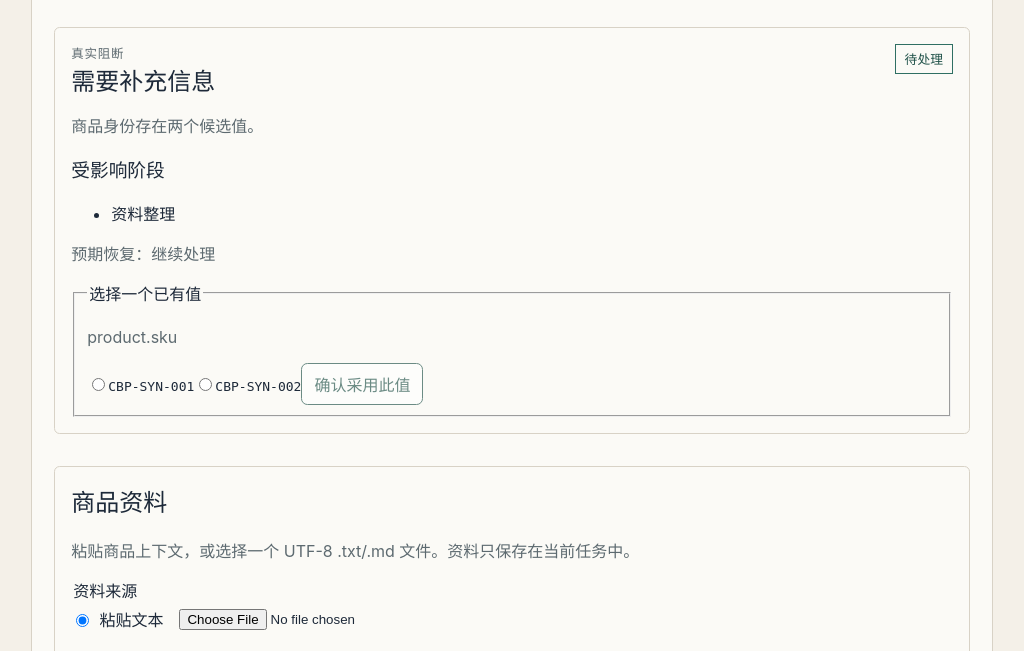
Test case: TaskRoutes › announces successful resolution after the authoritative overview refetch
(page scrolled)
Step 1. Click the radio button labelled "CBP-SYN-001" → [99, 384], box [92,378,105,391]
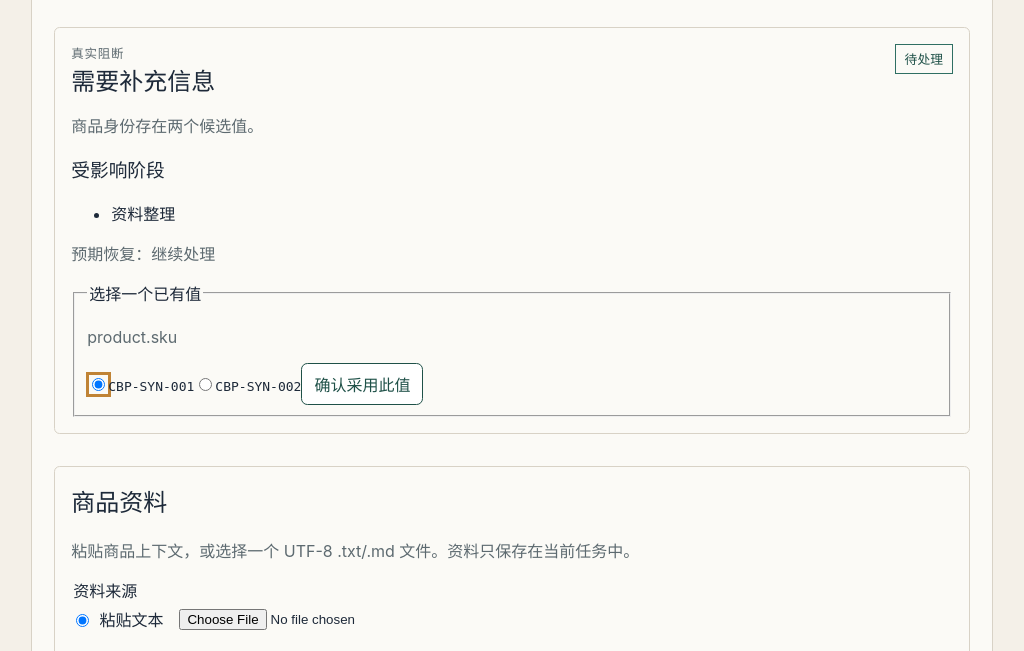
Step 2. Click the button "确认采用此值" → [362, 384], box [301,363,423,405]
(page scrolled)
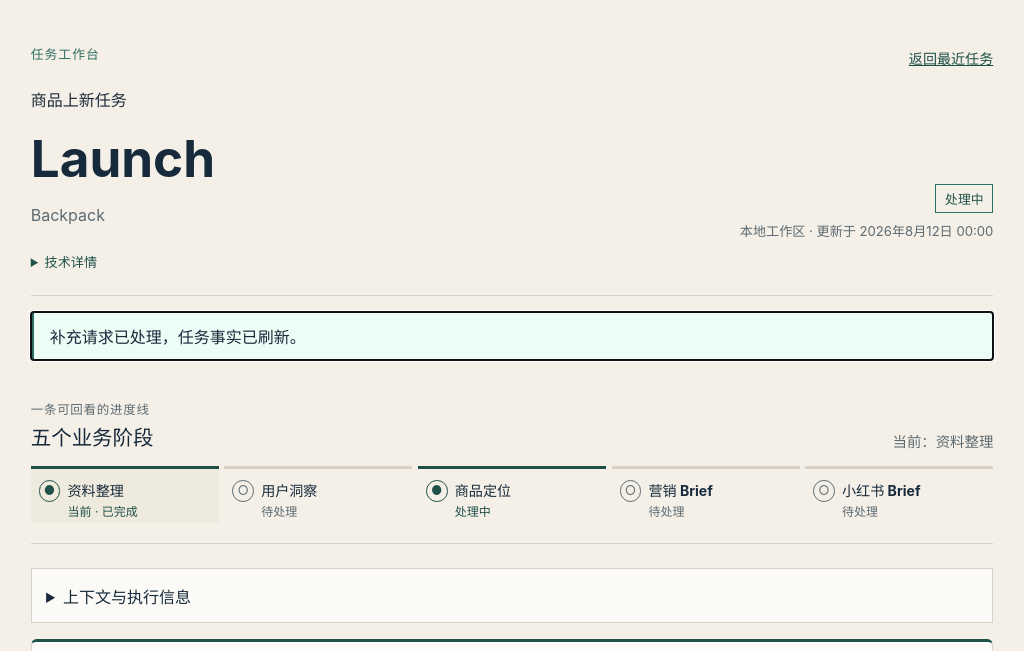
Result: the text "补充请求已处理，任务事实已刷新。" is shown at [31,312,993,360]
